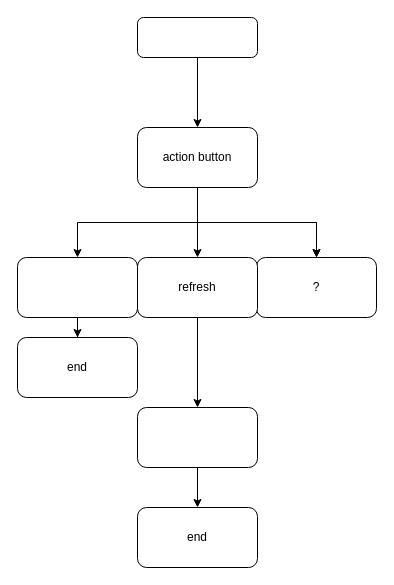
The diagram is 394 pixels wide and 585 high, and some of its shapes have lost their labels. The shapes that lost their labels are listed below. From the top down, each one's centre as x and y in pixels, then its label:
At pixel 197 37: "start".
At pixel 77 287: "exit".
At pixel 197 437: "refresh and start pinned".
